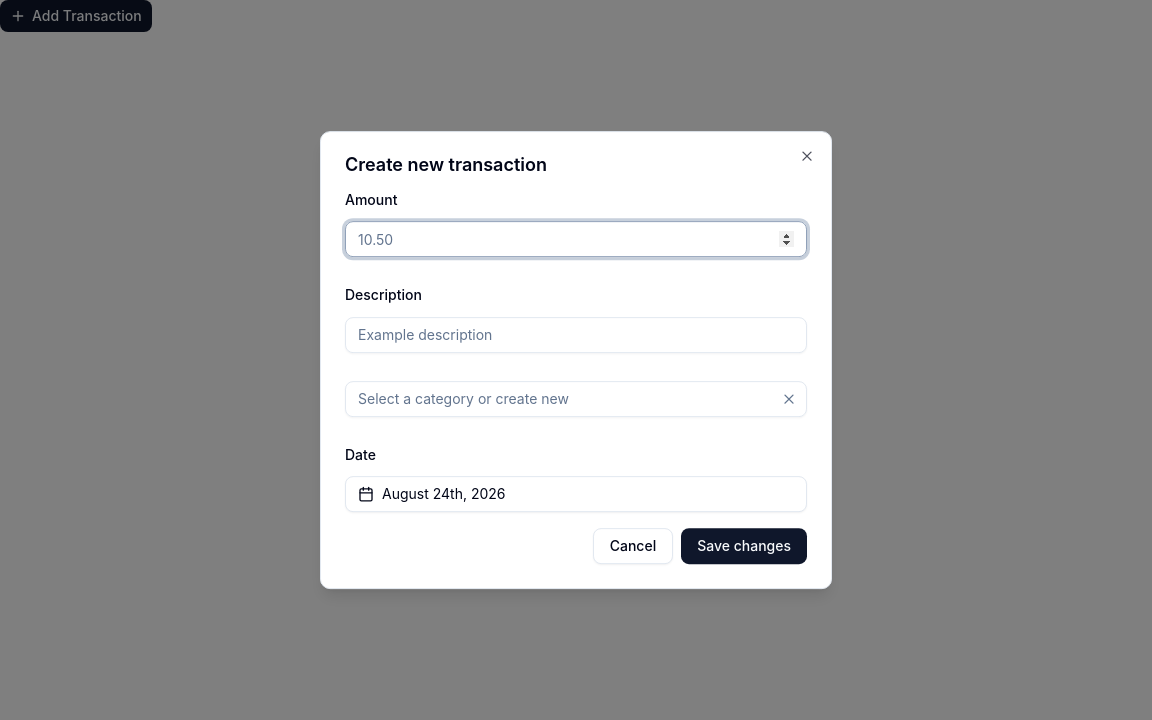
Test: TransactionDialog › shows error toast
Type "15.99" into the number field with placeholder "10.50" at (576, 239), box [345,221,807,257]
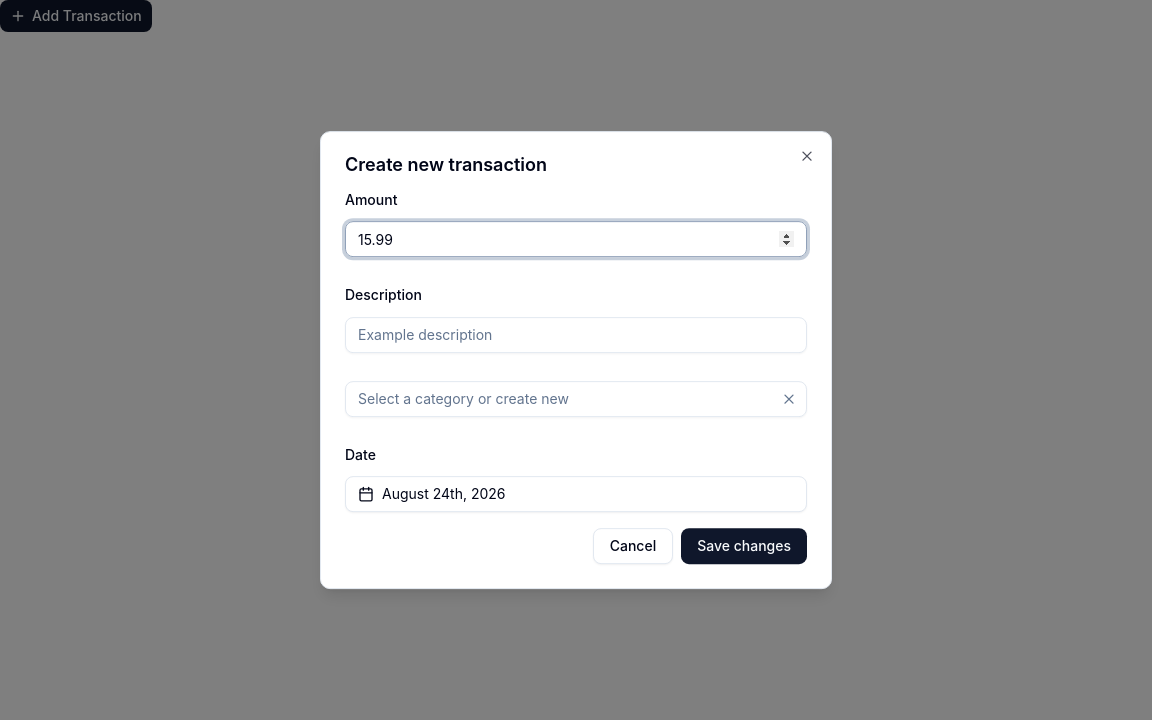
Type "Test Description" into the field with placeholder "Example description" at (576, 335), box [345,317,807,353]
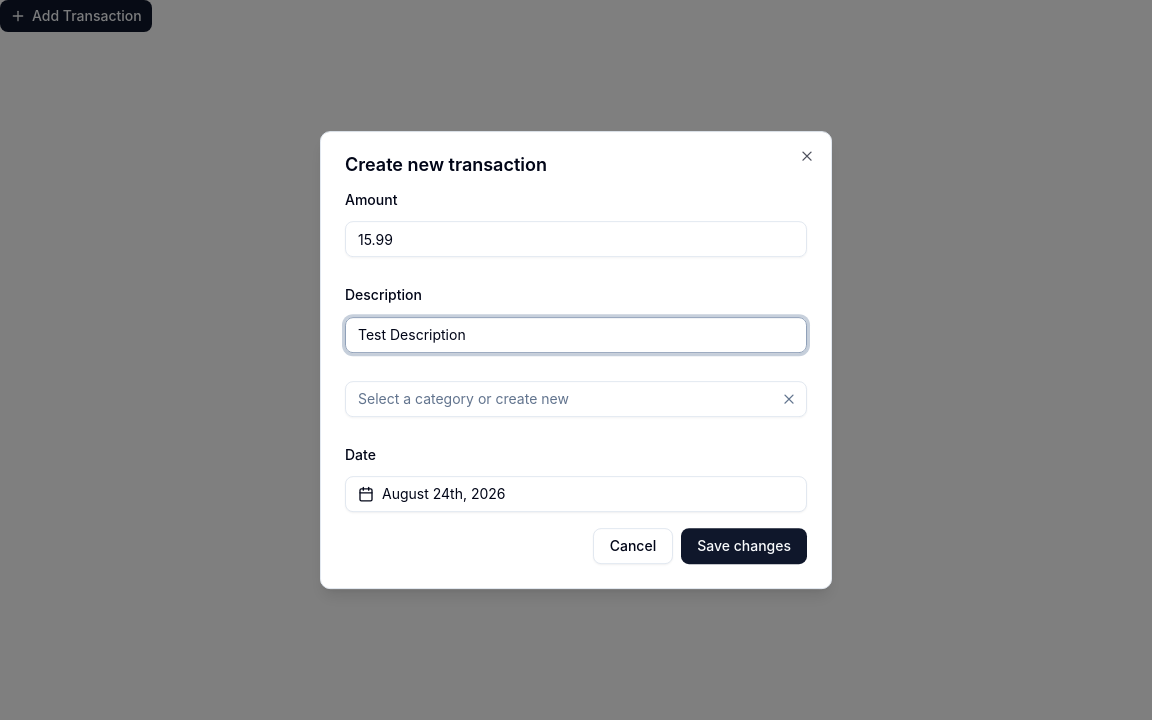
Type "Food" into the dropdown with placeholder "Select a category or create new" at (562, 399), box [346,381,777,417]
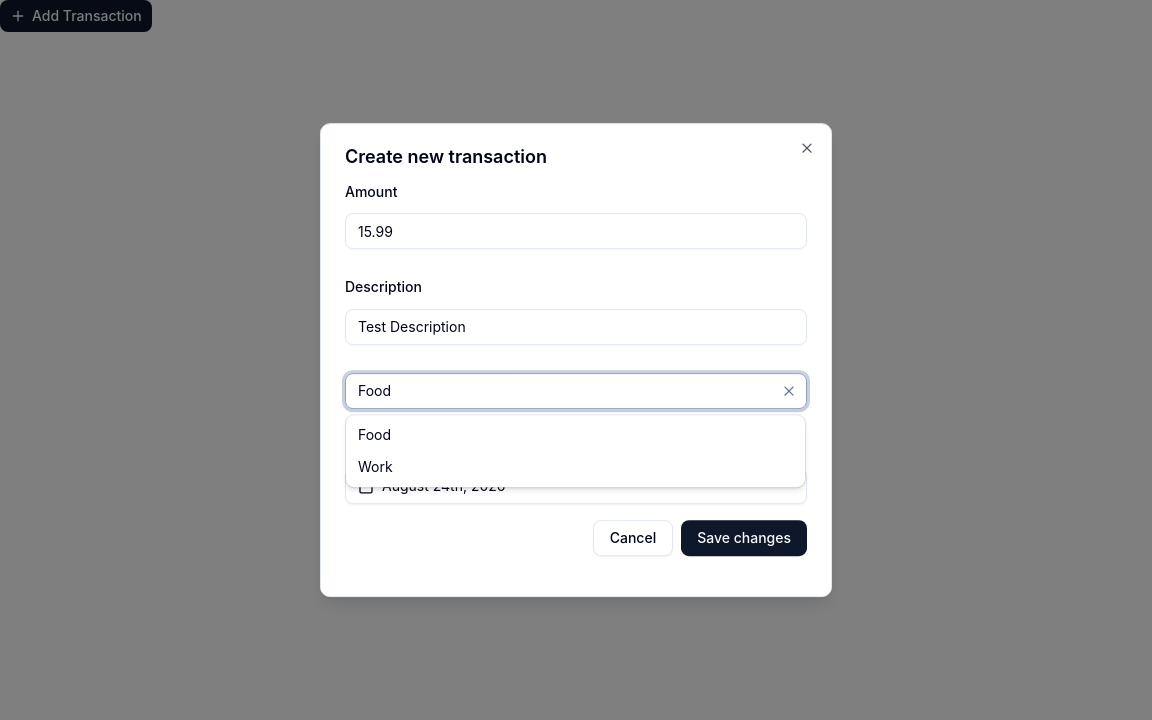
Click the option "Food" at (375, 435), box [358,426,391,443]
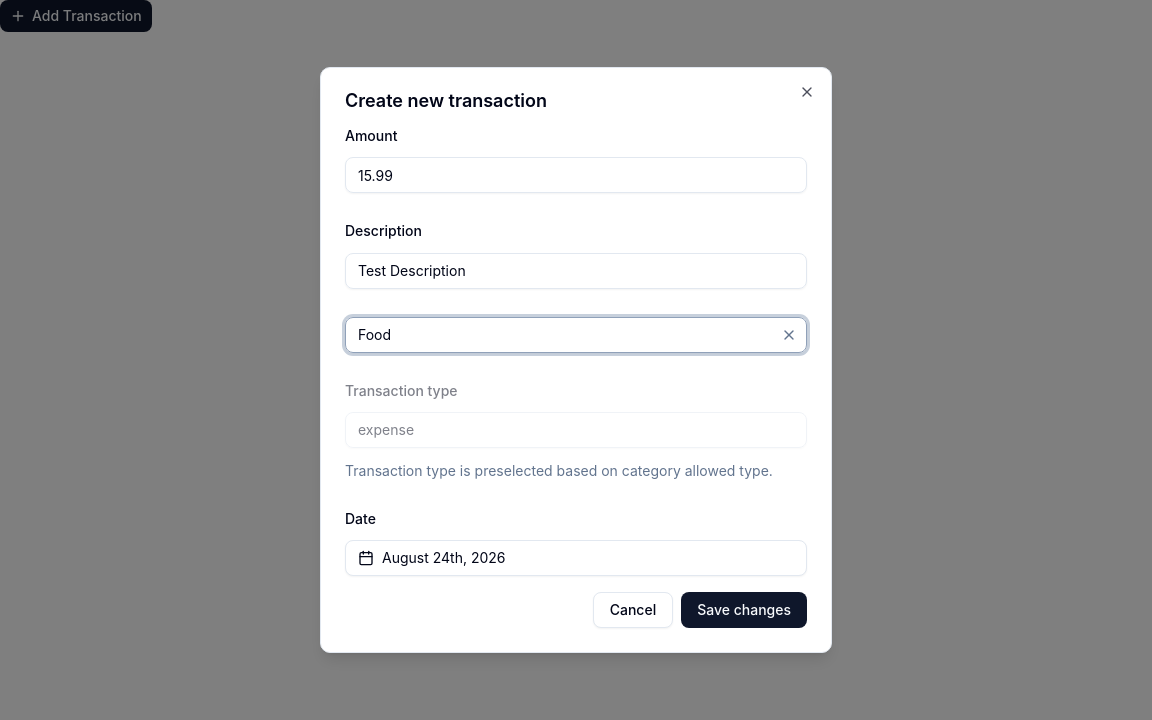
Click the button "Save changes" at (744, 610), box [681,592,807,628]
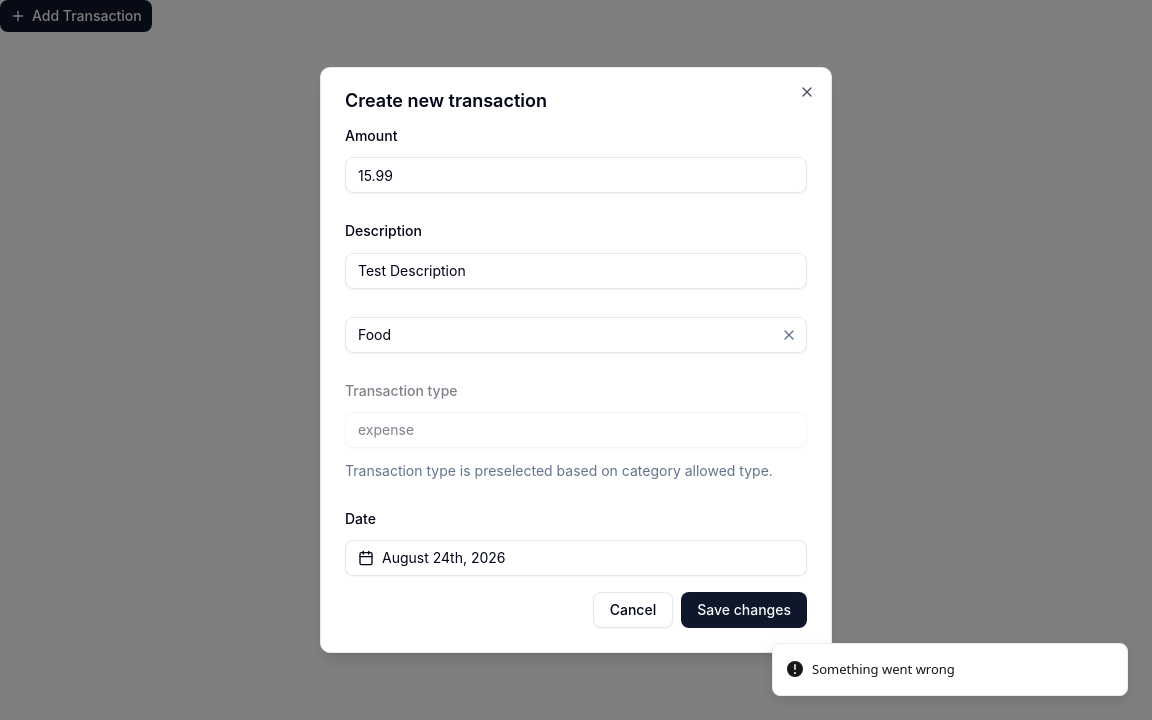
Expected: the text "Something went wrong" is shown, [812,660,955,679]
